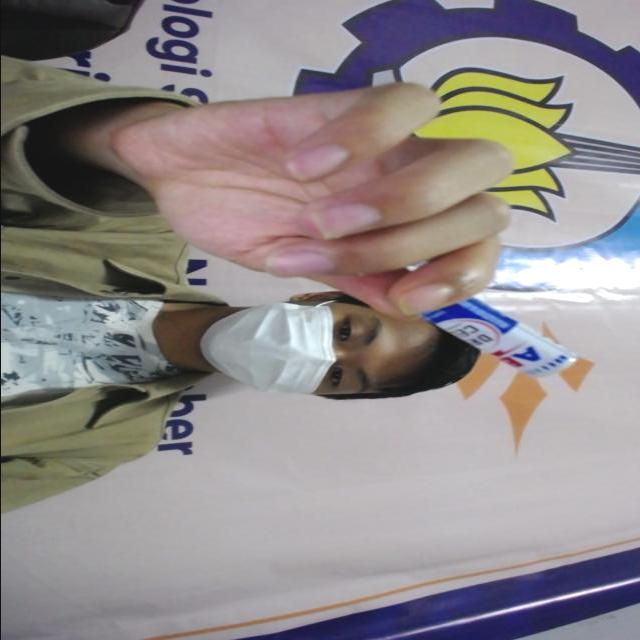AA: (398, 280, 599, 386)
